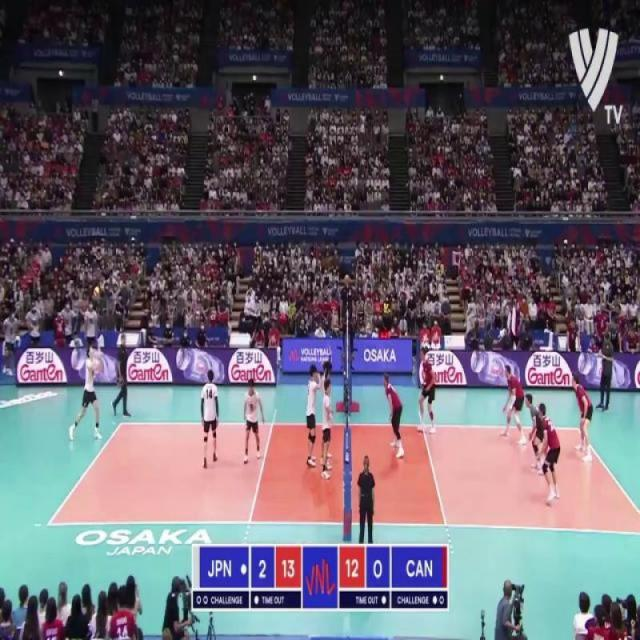volleyball: (94, 286, 100, 298)
